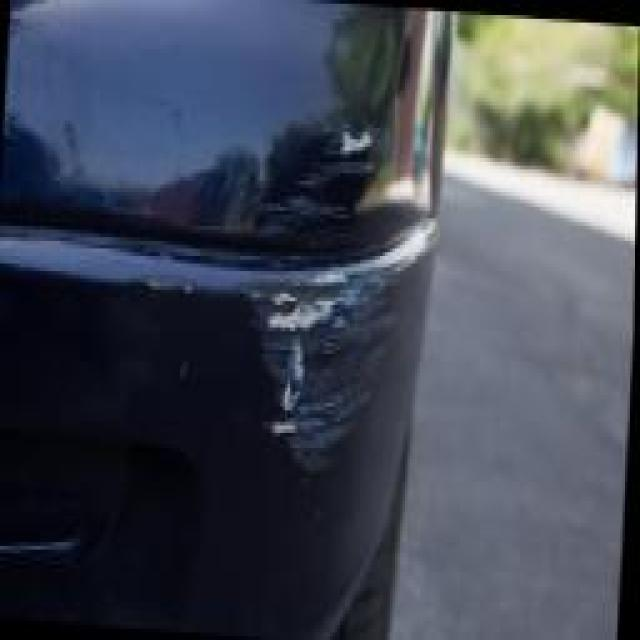Bumper: (225, 248, 427, 512)
Fender: (240, 75, 396, 271)
